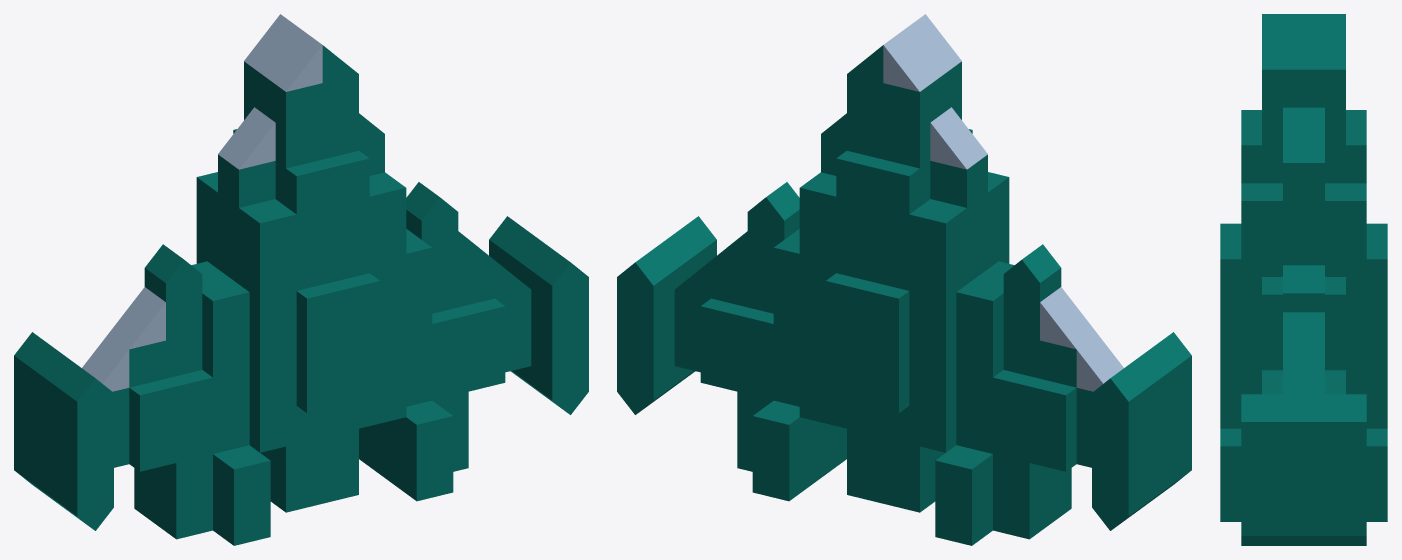
The model's file is spaceship.dae.
3 views of the same model, side by side, from view 1: azimuth 30°, elevation 25°; view 2: azimuth 150°, elevation 25°; view 3: azimuth 270°, elevation 25° (orthographic).
Parts seen in each view (by area): view 1: shape0 (×71), shape6 (×6), shape1 (×7); view 2: shape0 (×71), shape6 (×6), shape1 (×7); view 3: shape0 (×24), shape6 (×3), shape1 (×4).
Part boxes in pixels (<box>): shape0 (×71): <box>14,61,588,545</box>; shape6 (×6): <box>14,182,588,530</box>; shape1 (×7): <box>82,14,530,391</box>; shape0 (×71): <box>617,61,1191,545</box>; shape6 (×6): <box>617,182,1191,530</box>; shape1 (×7): <box>675,14,1123,391</box>; shape0 (×24): <box>1220,69,1387,521</box>; shape6 (×3): <box>1241,265,1366,545</box>; shape1 (×4): <box>1262,14,1345,394</box>.
Size of the model in its own units: 14 by 12 by 4.
